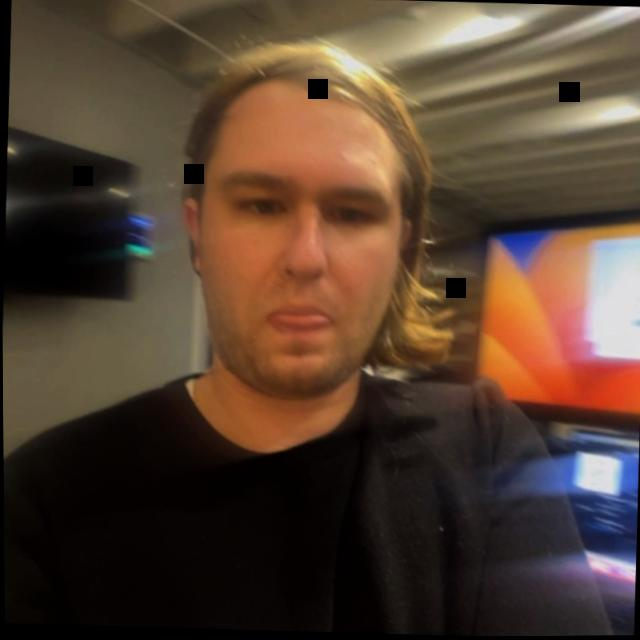NO-Mask: (133, 42, 424, 488)
